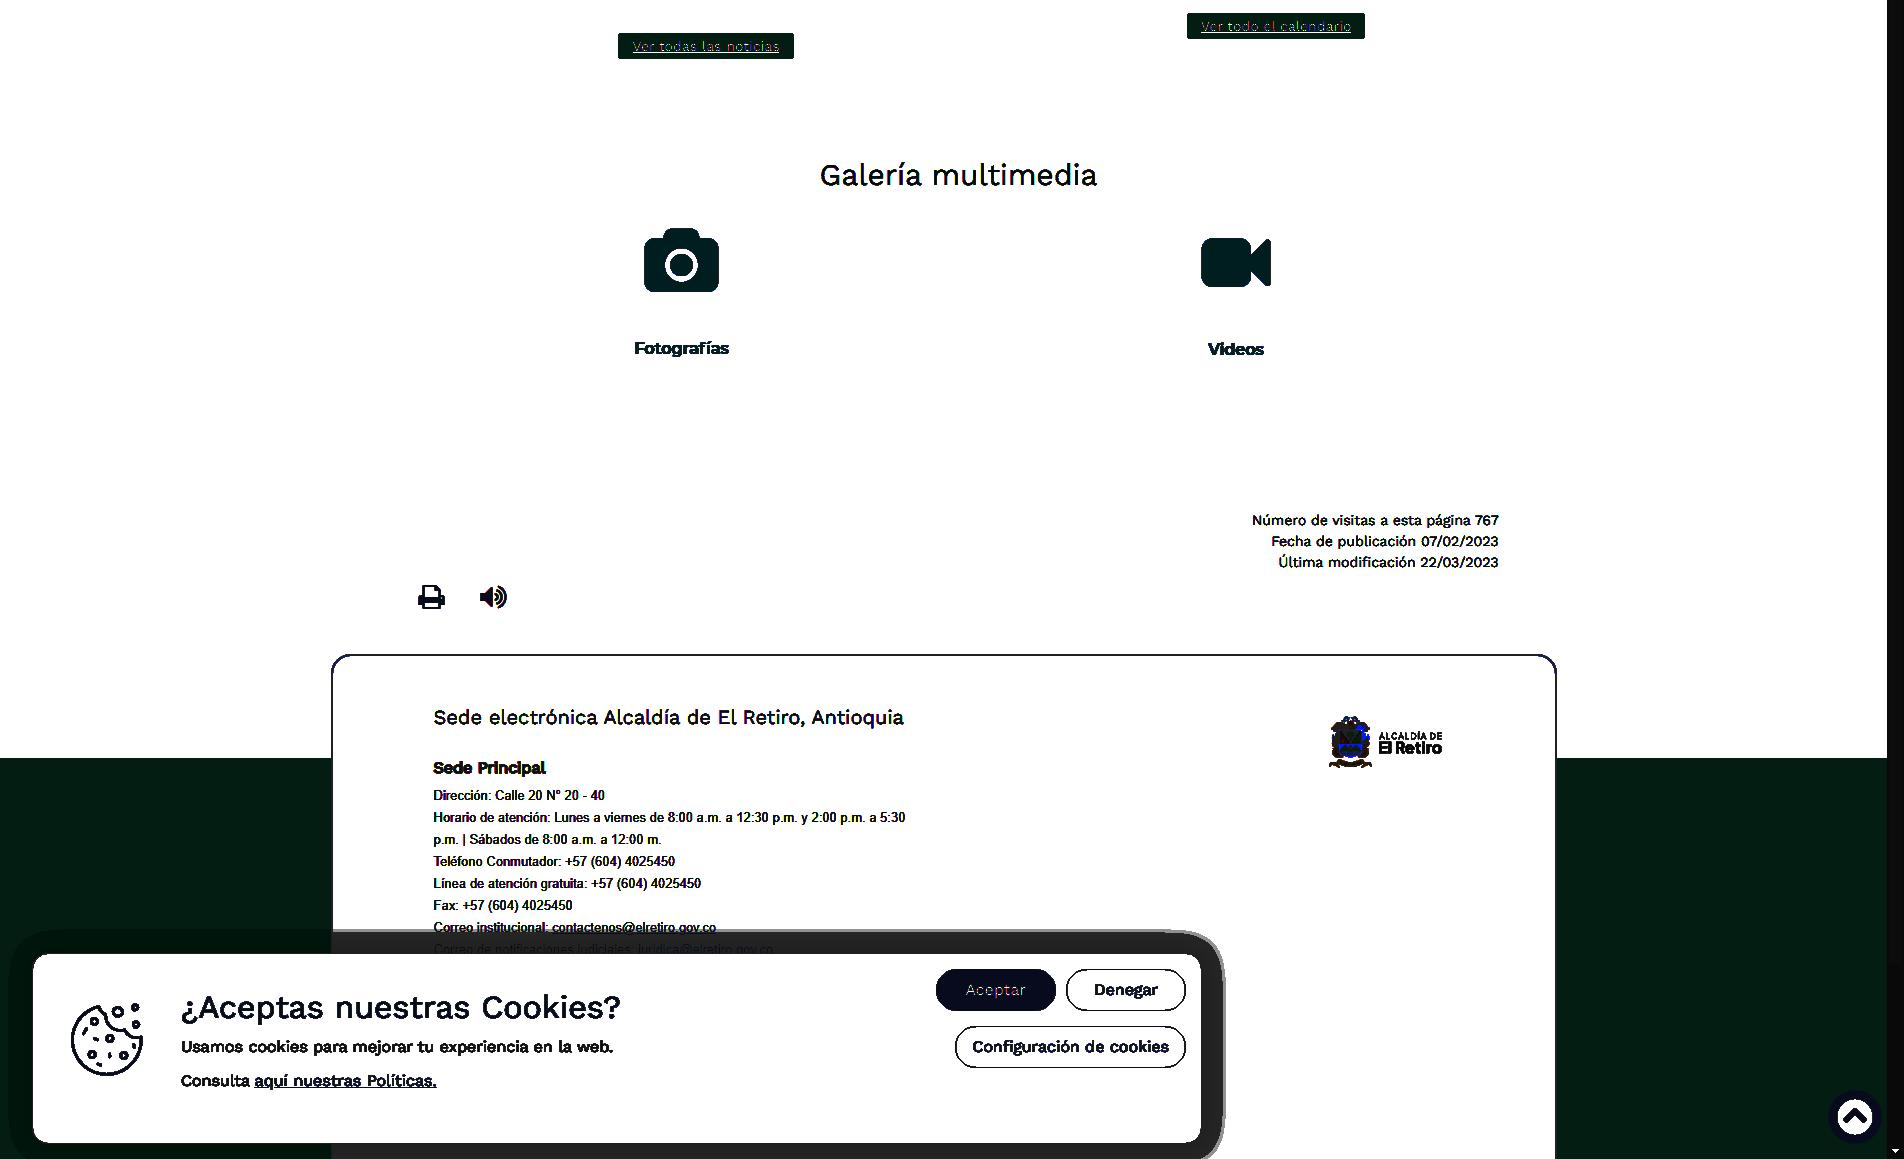btn volver arriba: (1826, 1086, 1884, 1148)
correo institucional: (432, 917, 549, 936)
direccion: (432, 787, 490, 802)
footer: (328, 648, 1560, 1159)
horario atencion: (433, 809, 549, 824)
